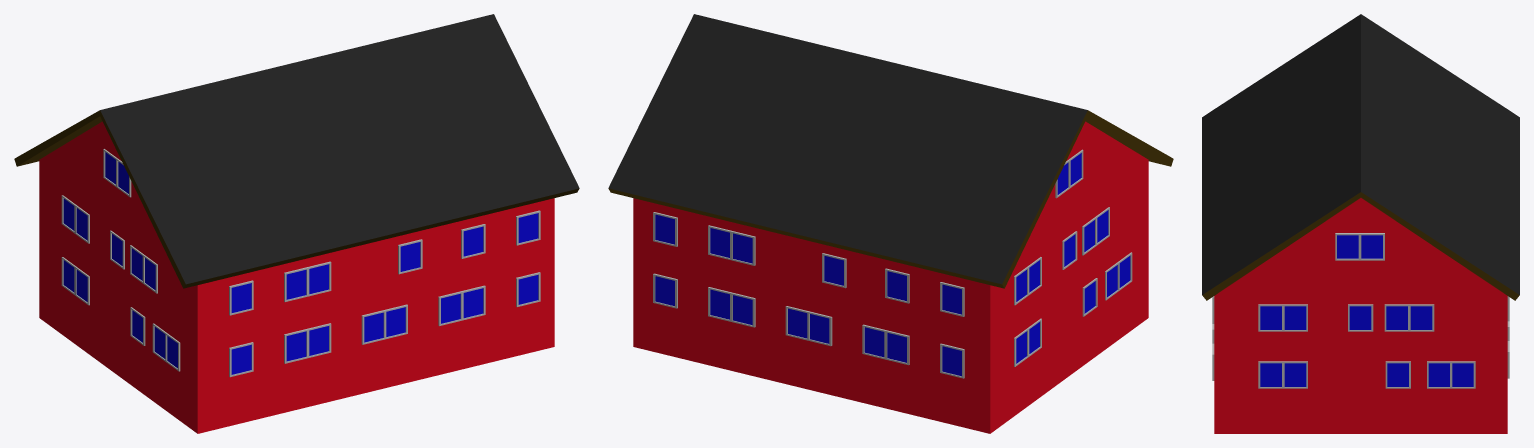
The model's file is house.glb.
3 views of the same model, side by side, from view 1: azimuth 30°, elevation 25°; view 2: azimuth 150°, elevation 25°; view 3: azimuth 270°, elevation 25° (orthographic). The views are drawn at different scales.
Parts seen in each view (by area): view 1: Cube.001, Windows; view 2: Cube.001, Windows; view 3: Cube.001, Windows.
Boxes of the visible parts, <box> form: Cube.001: <box>14,14,579,433</box>; Windows: <box>61,149,540,377</box>; Cube.001: <box>608,14,1173,433</box>; Windows: <box>653,149,1132,378</box>; Cube.001: <box>1202,14,1519,433</box>; Windows: <box>1212,233,1509,388</box>.
Size of the model in its own units: 16.74 by 10.98 by 12.63.
